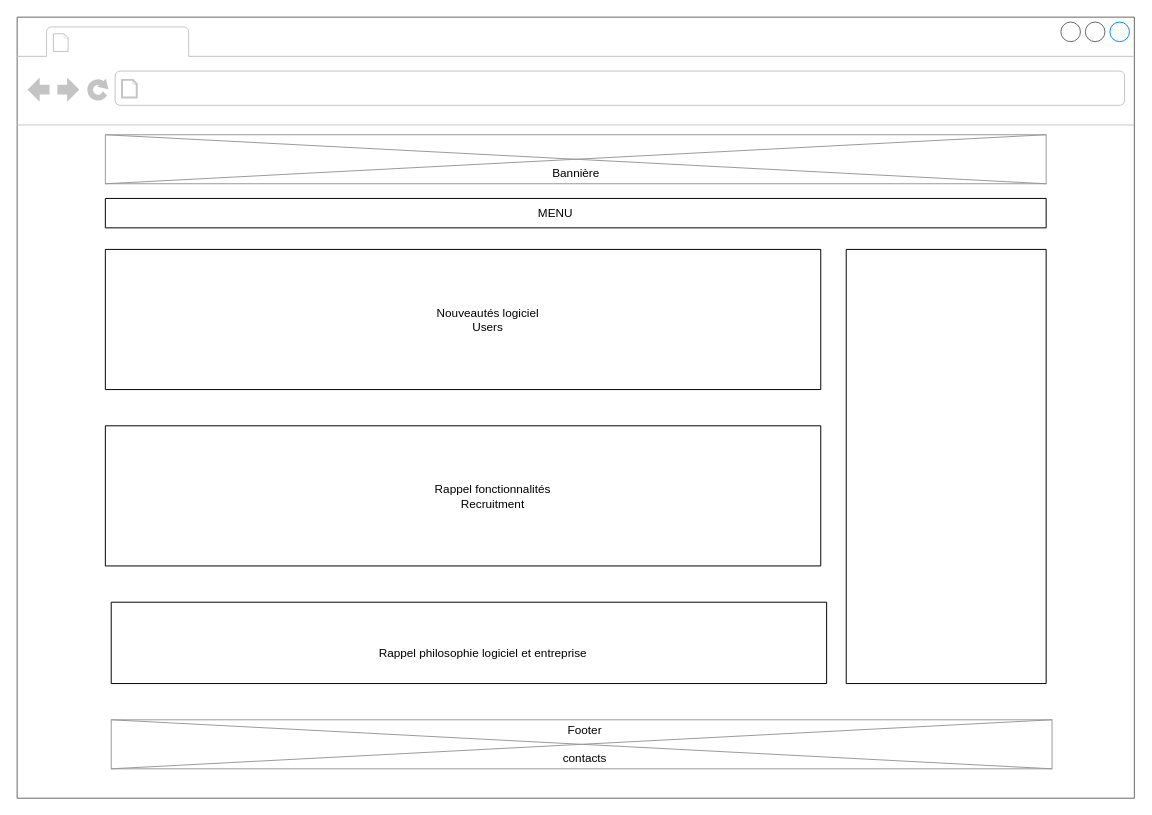
Some shapes in this 1152 by 815 pixel diagram are drawn without their labels. The shapes that lost their labels are listed below. From the top down, each one's centre as x and y in pixels, then its label:
the point at 129,41: Page 1
the point at 267,88: https://www.easydelivery.com/index.html
the point at 945,466: Module Connexion/ Demande inscription
